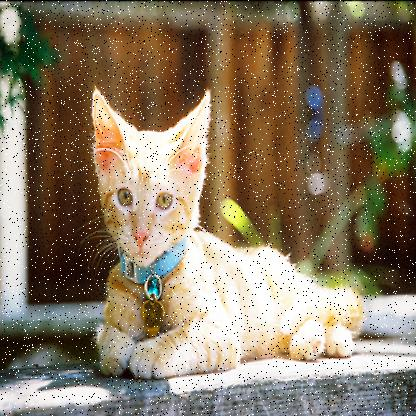cat: (82, 83, 367, 368)
